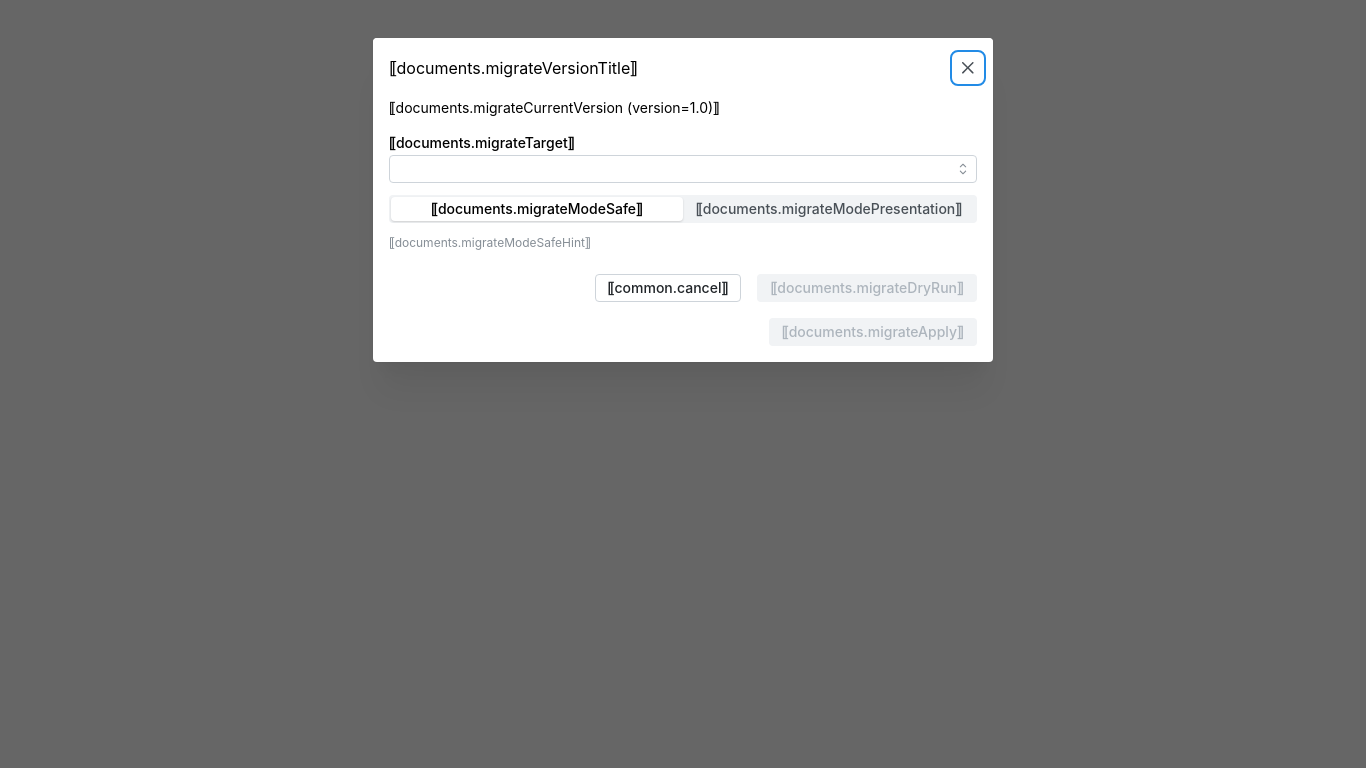
Test: VersionMigrationDialog: підтвердження резервної копії (KI-2) › нижче порогу поля немає, а «Перенести» доступна
What coordinates should you click on to do the following:
click the field labelled "⟦documents.migrateTarget⟧"
I would click on:
 (683, 170)
Its box is [389,156,977,184].
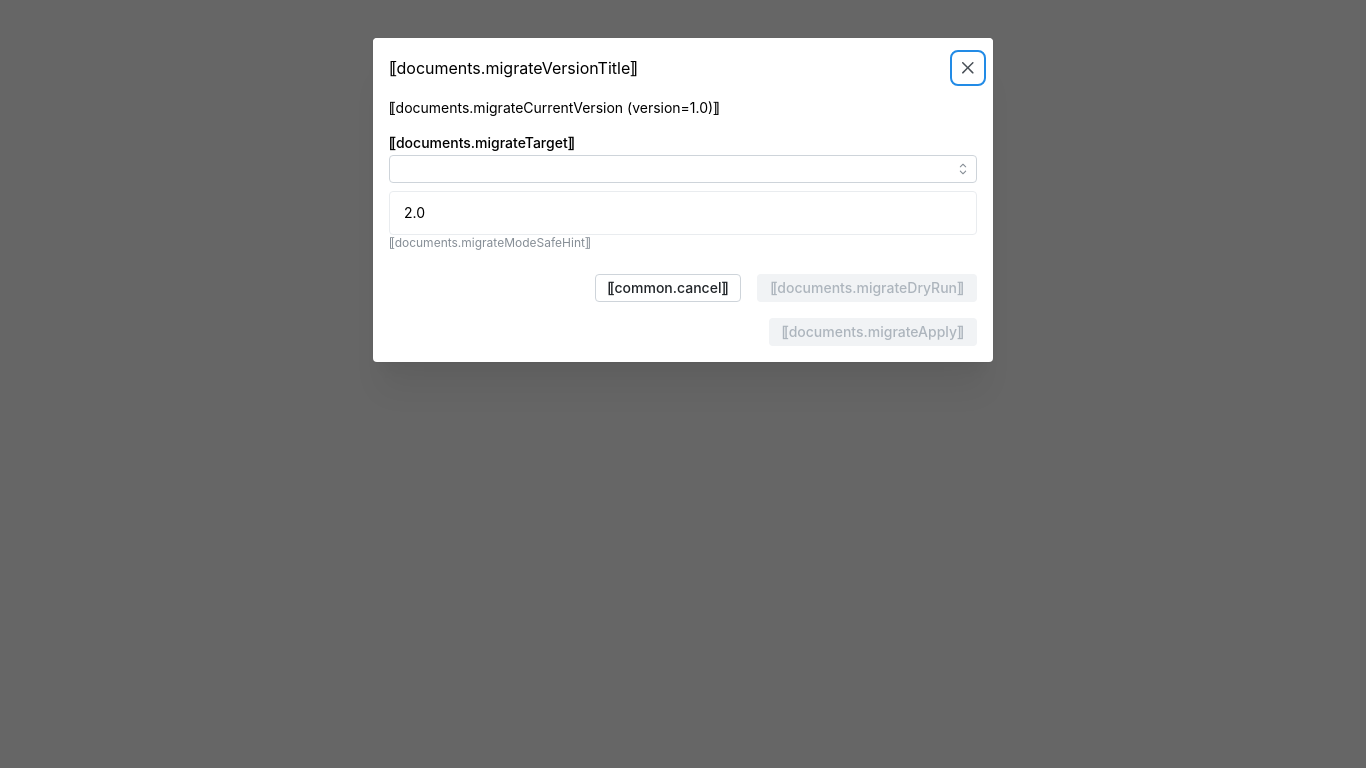
What coordinates should you click on to do the following:
click the option "2.0"
I would click on:
 (415, 213)
Its box is [404,204,425,222].
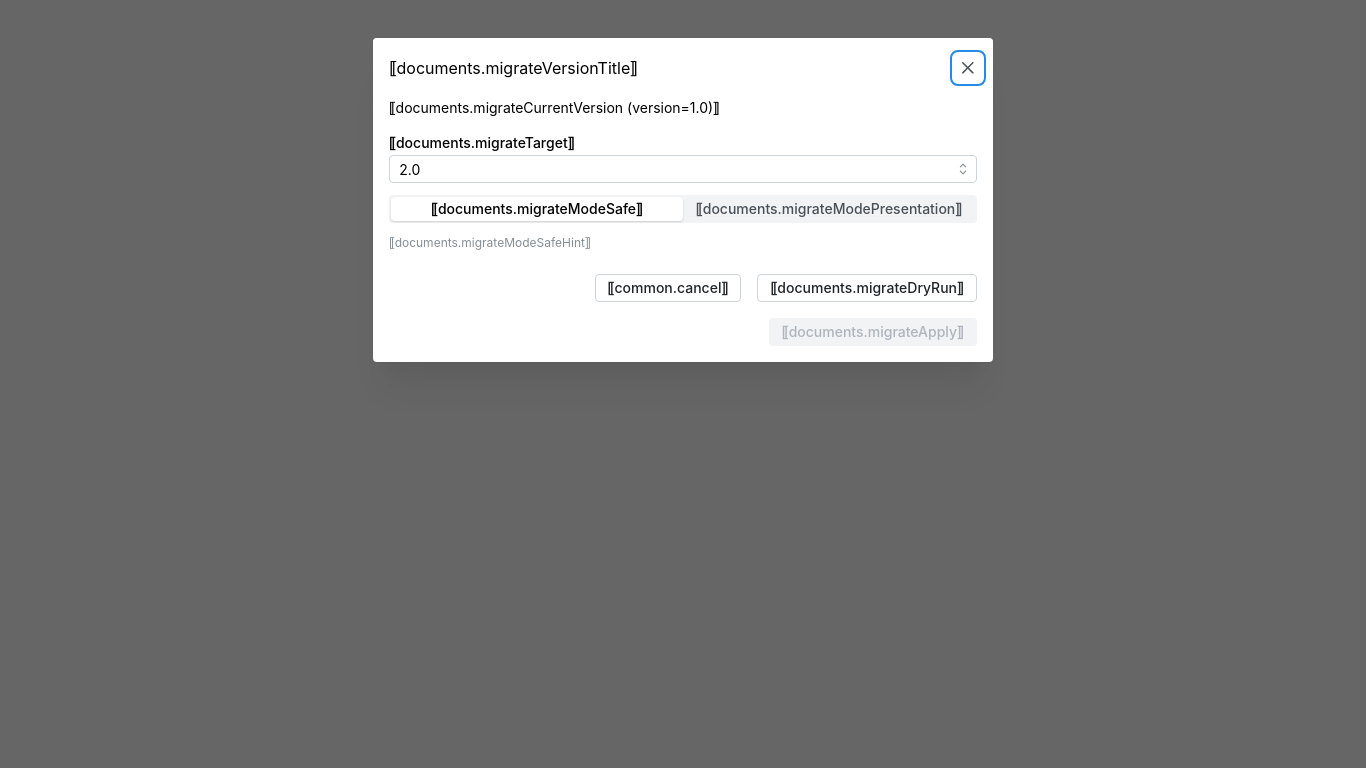
What coordinates should you click on to do the following:
click the button with test id "migrate-dry-run"
I would click on:
 (867, 288)
Its box is [757,274,977,302].
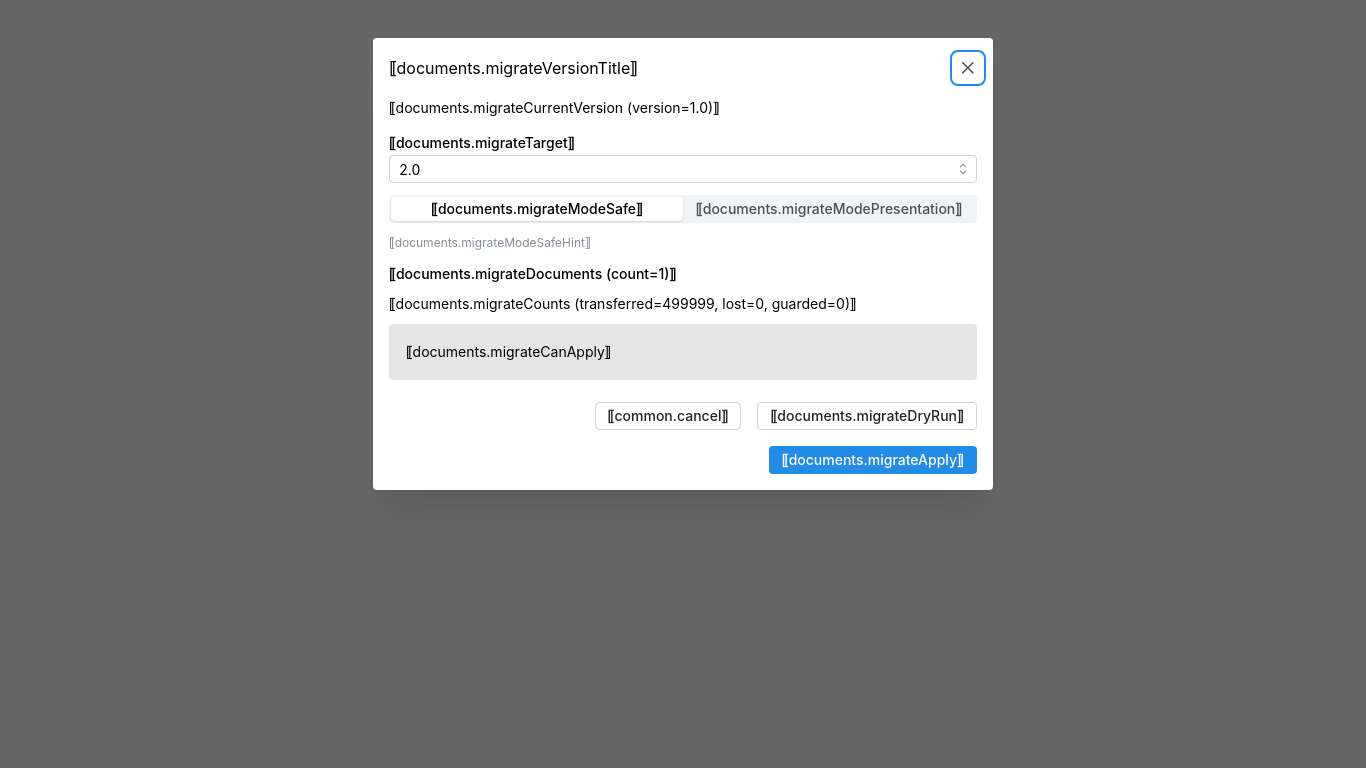
Check: the text "⟦documents.migrateCanApply⟧" is shown, box [406,344,611,361]
Check: the button with test id "migrate-apply" is enabled, box [769,447,977,475]
